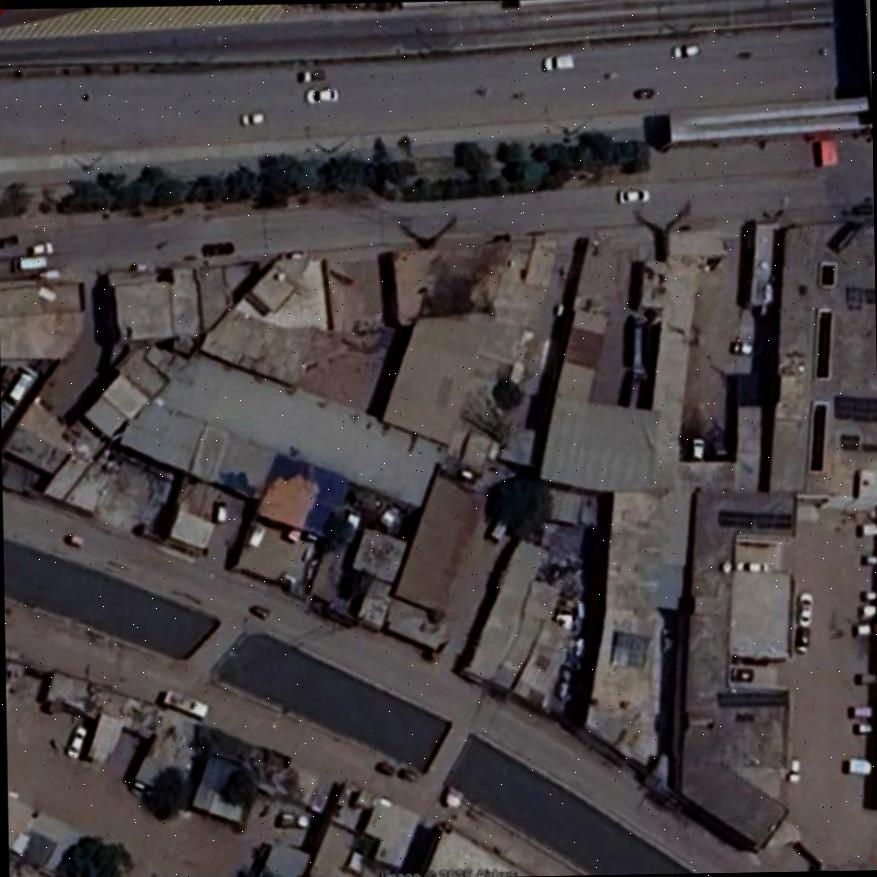Solarpanel: (715, 509, 792, 529), (831, 394, 876, 421)
